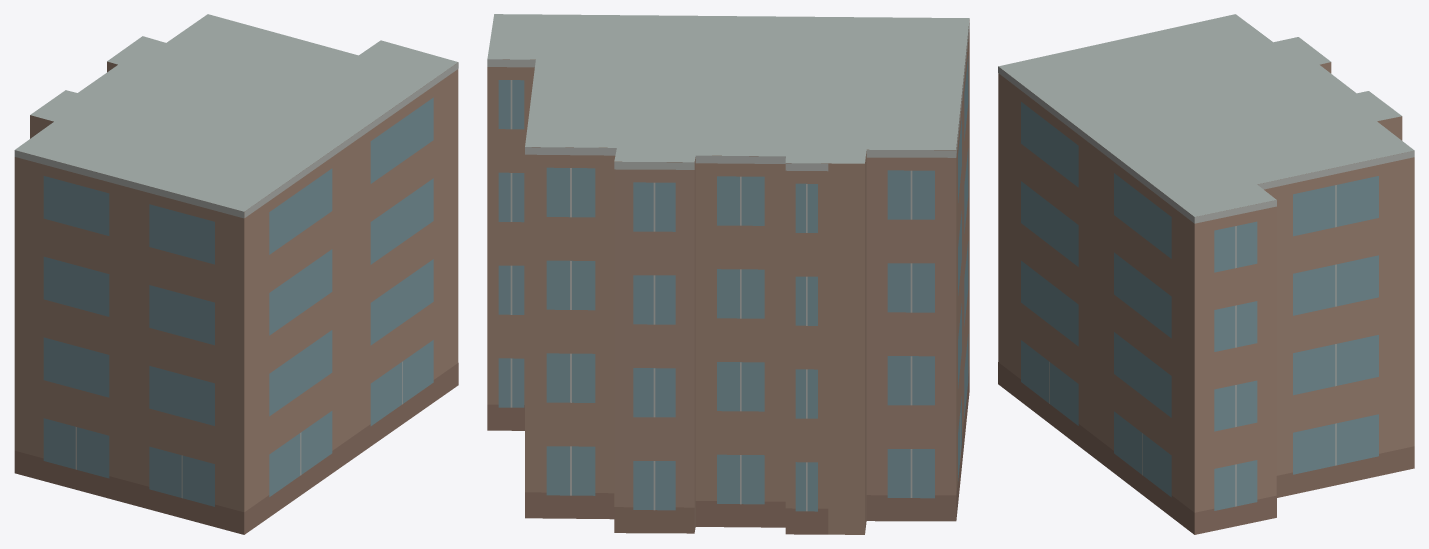
Rendered from survey-upis-32508797.glb.
3 renders of one model, left to right at view 1: azimuth 30°, elevation 25°; view 2: azimuth 150°, elevation 25°; view 3: azimuth 270°, elevation 25°, orthographic. The views are drawn at different scales.
Visible parts, largest first — view 1: survey-upis-32508797.tmp; view 2: survey-upis-32508797.tmp; view 3: survey-upis-32508797.tmp.
Part boxes in pixels (x1,y1,x2,y2): survey-upis-32508797.tmp: (14,14,458,534); survey-upis-32508797.tmp: (487,14,969,534); survey-upis-32508797.tmp: (998,14,1414,534).
Bounding box in the file's own units: 16.04 × 11.7 × 13.9.
